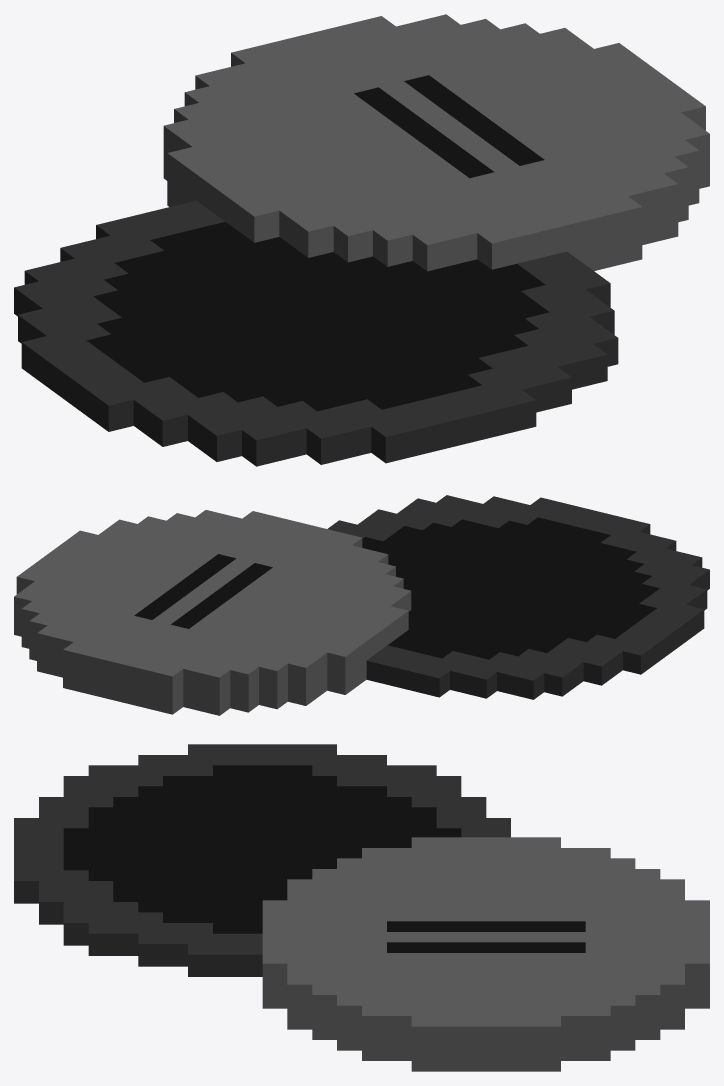
The model's file is kaivo.obj.
3 renders of one model, top to bottom at view 1: azimuth 30°, elevation 25°; view 2: azimuth 150°, elevation 25°; view 3: azimuth 270°, elevation 25°, orthographic. The views are drawn at different scales.
Size of the model in its own units: 29 by 2 by 28.
1 material, 1 textured.
